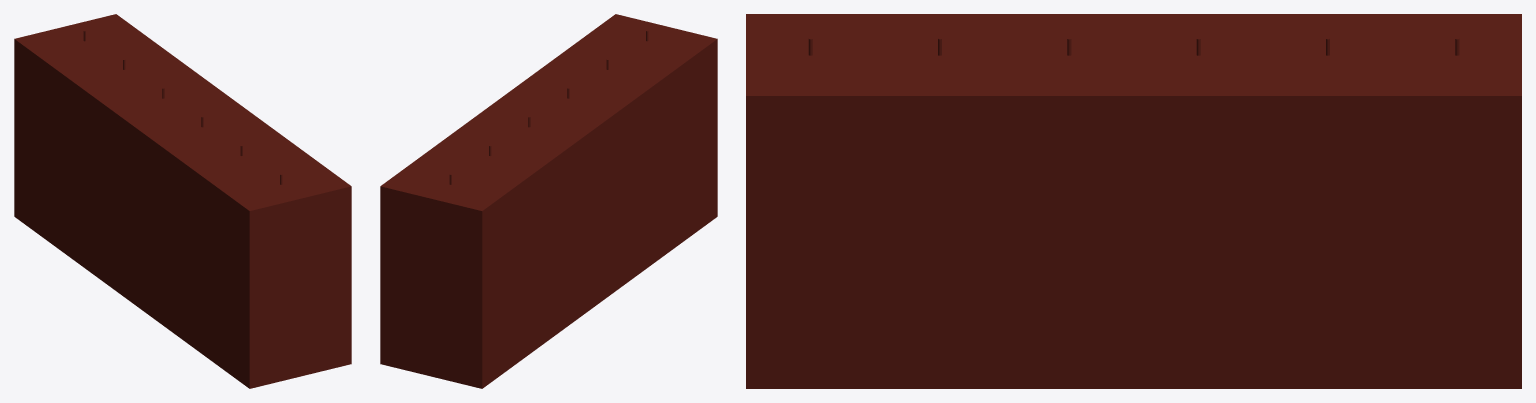
File: robocon_spearhead_rack.fbx
The picture shows the model from 3 angles, left to right: view 1: azimuth 30°, elevation 25°; view 2: azimuth 150°, elevation 25°; view 3: azimuth 270°, elevation 25°; orthographic projection. The views are drawn at different scales.
Parts seen in each view (by area): view 1: spearheadrack-Body; view 2: spearheadrack-Body; view 3: spearheadrack-Body.
Part boxes in pixels (x1,y1,x2,y2): spearheadrack-Body: (14,14,351,388); spearheadrack-Body: (380,14,717,388); spearheadrack-Body: (746,14,1521,388).
Bounding box in the file's own units: 30 × 52.8 × 120.
